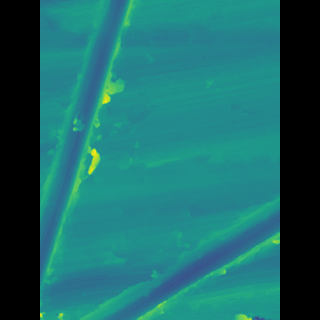Loch: (66, 0, 140, 296), (99, 190, 252, 320)
